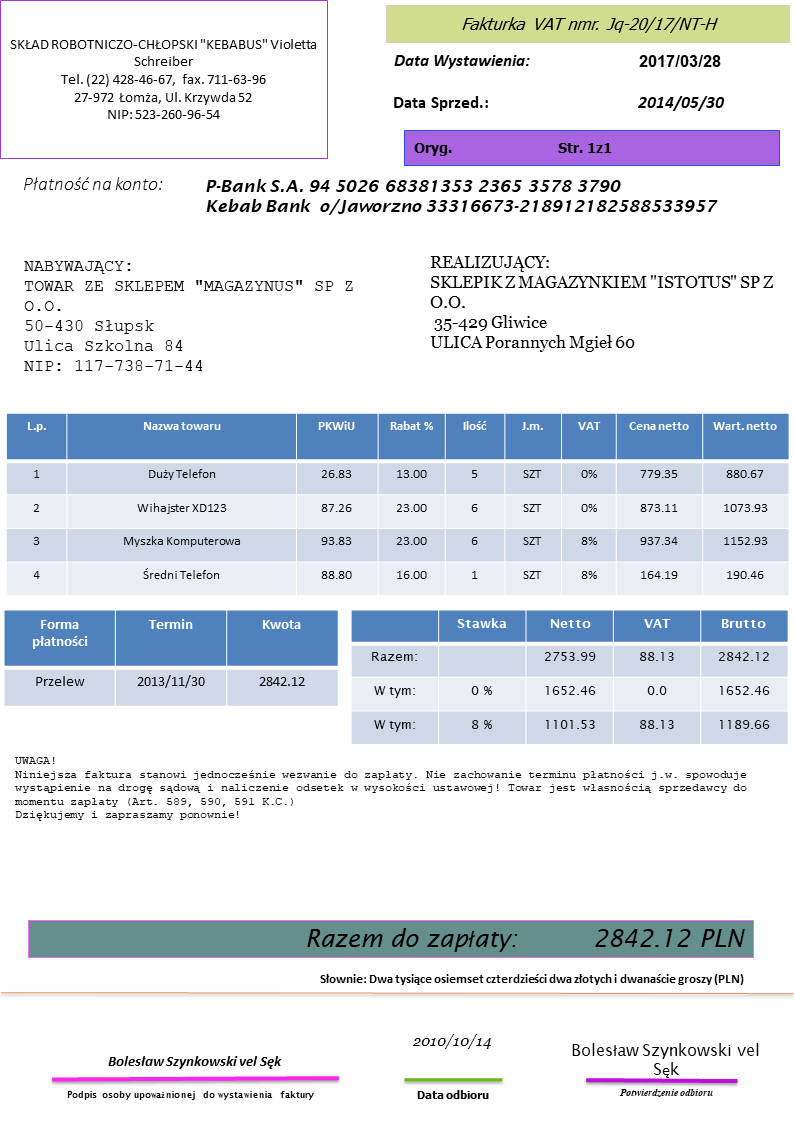Table: (4, 412, 789, 599), (349, 608, 789, 745), (2, 608, 339, 707)
TextBox: (12, 753, 751, 822), (20, 254, 357, 375), (428, 251, 778, 353), (7, 36, 320, 121), (203, 175, 719, 218), (305, 923, 749, 952), (317, 970, 745, 989), (567, 1039, 764, 1077), (458, 11, 721, 36), (410, 136, 614, 159), (63, 1087, 317, 1104), (20, 173, 166, 197), (105, 1053, 284, 1071), (391, 51, 531, 71), (389, 93, 489, 113), (634, 49, 722, 71), (634, 93, 726, 113), (410, 1032, 494, 1052), (617, 1085, 716, 1101), (414, 1086, 489, 1103)
